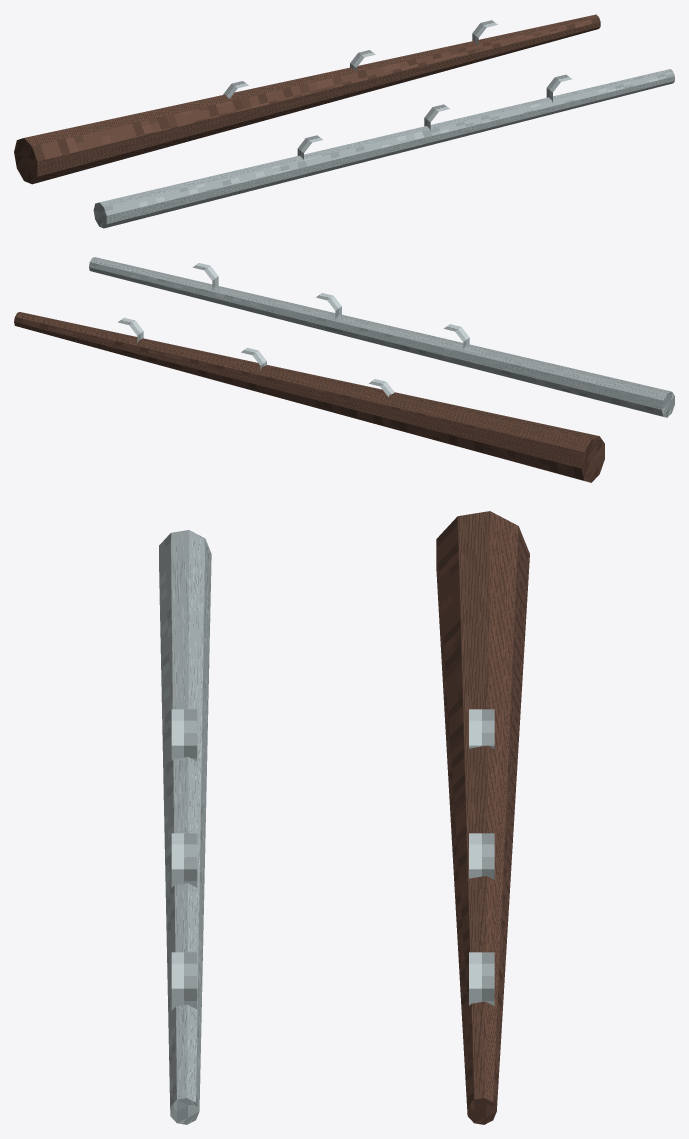
Rendered from fishing_rod_2pc_packed.glb.
3 views of the same model, one above another, from view 1: azimuth 30°, elevation 25°; view 2: azimuth 150°, elevation 25°; view 3: azimuth 270°, elevation 25° (orthographic). The views are drawn at different scales.
Visible parts, largest first — view 1: block_disassembled tapered rod (×2); view 2: block_disassembled tapered rod (×2); view 3: block_disassembled tapered rod (×2), block_fishing line guide (×6).
Part boxes in pixels (<box>): block_disassembled tapered rod (×2): <box>14,14,674,228</box>; block_disassembled tapered rod (×2): <box>14,257,674,482</box>; block_disassembled tapered rod (×2): <box>159,511,529,1124</box>; block_fishing line guide (×6): <box>171,709,494,1010</box>.
Bounding box in the file's own units: 1 × 0.0764 × 0.2814.
Materials: 1 (1 with a texture image).
